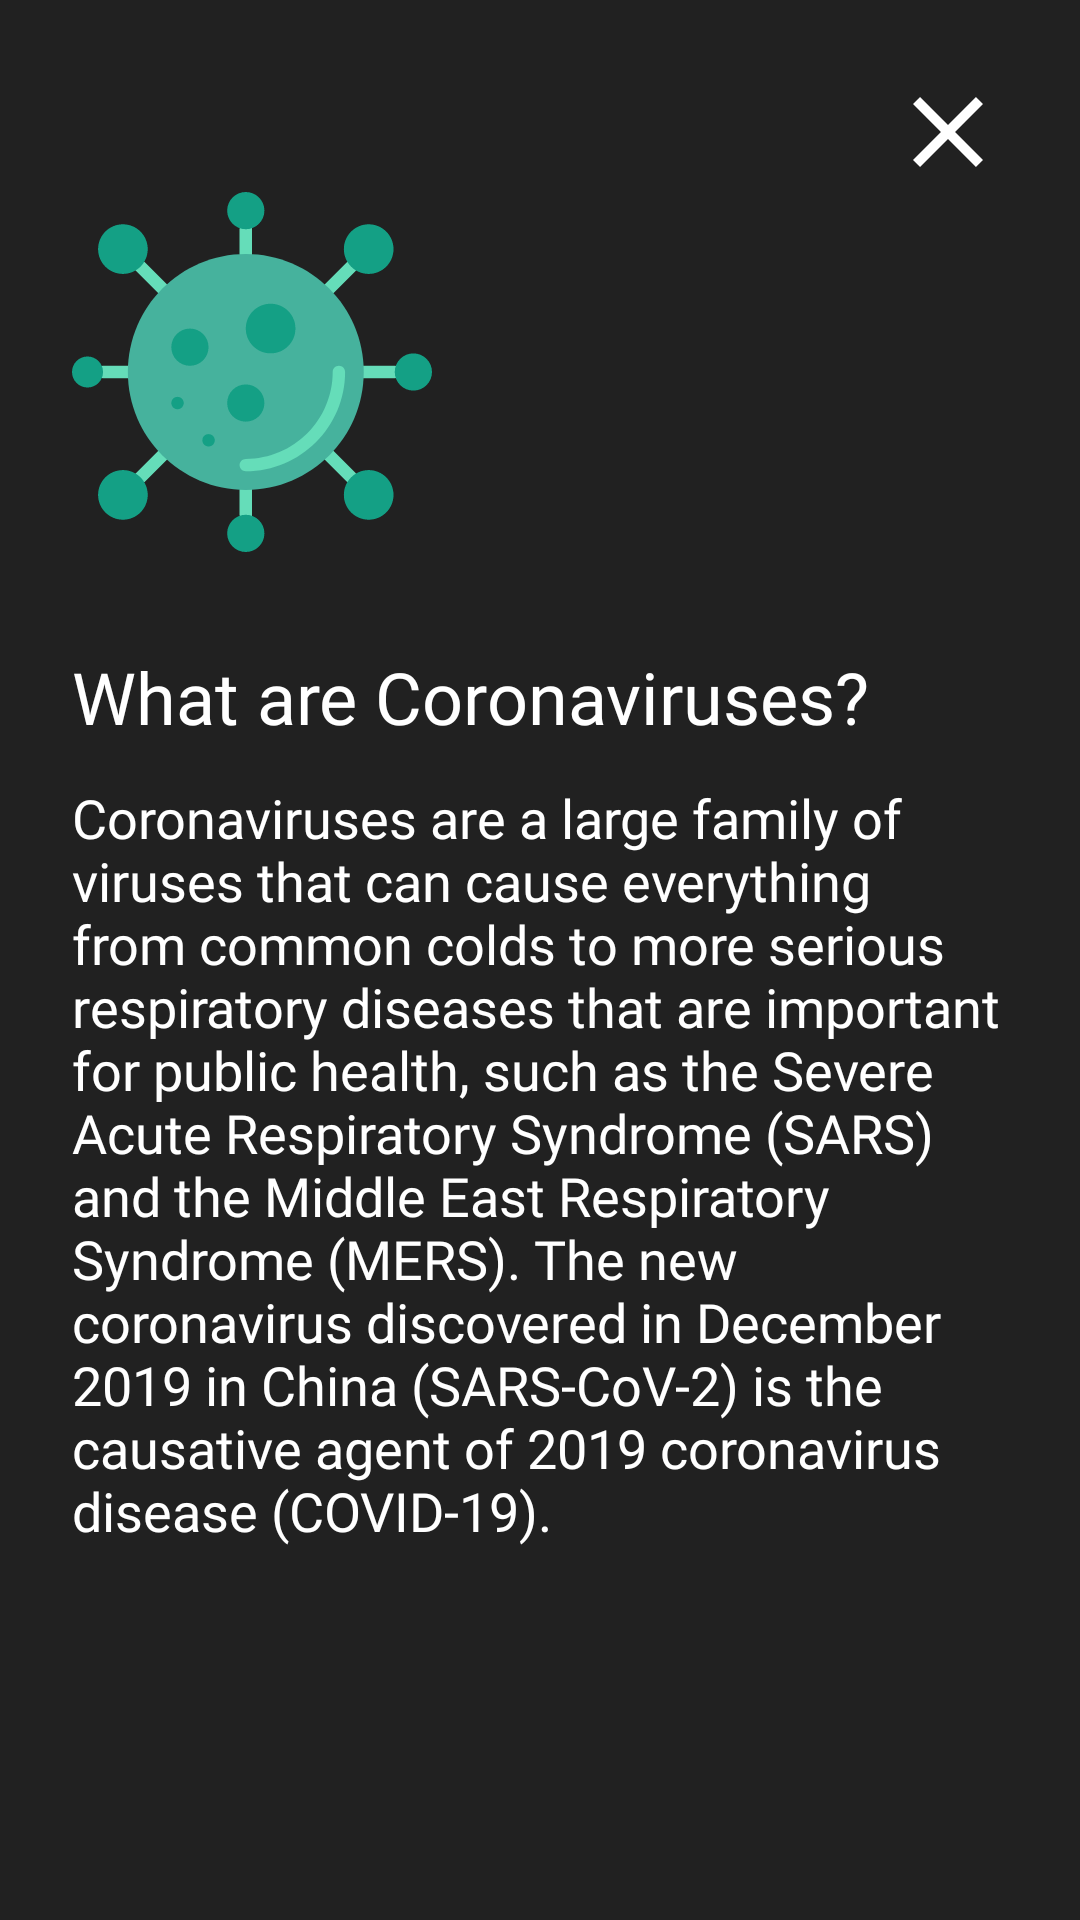

Icon bounding boxes for this 1080w x 1920h phone screenshot, format (x1, y1, x2, y2):
bacteria: (72, 192, 432, 552)
close: (913, 97, 983, 167)
